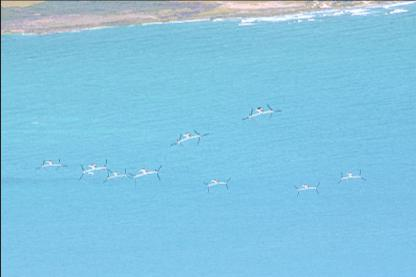Tornado: (241, 104, 281, 124), (170, 129, 209, 148), (128, 164, 162, 185), (79, 159, 113, 180), (102, 168, 132, 183), (337, 168, 367, 183), (36, 157, 68, 171), (202, 176, 230, 192), (292, 182, 320, 197)
